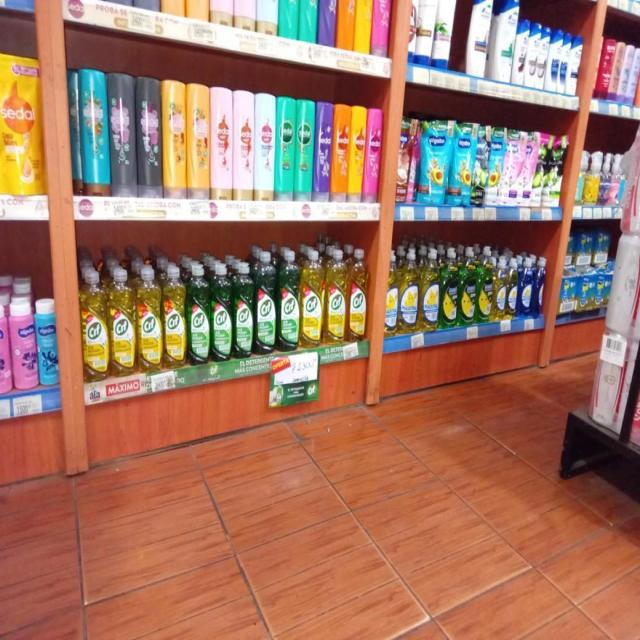cif_conc_bot_amarilla: (81, 269, 108, 381), (109, 266, 135, 377), (136, 265, 162, 373), (163, 264, 186, 369), (301, 248, 324, 348), (325, 247, 347, 345), (348, 246, 368, 342)
cif_conc_botella_verde: (278, 248, 300, 352), (188, 264, 210, 365), (255, 251, 276, 355), (233, 260, 254, 359), (212, 262, 232, 362)
magistral_con_amarillo: (399, 247, 419, 334), (420, 246, 440, 332), (384, 248, 398, 337), (494, 256, 507, 320), (508, 256, 518, 319)
magistral_con_azul: (519, 256, 534, 318)
